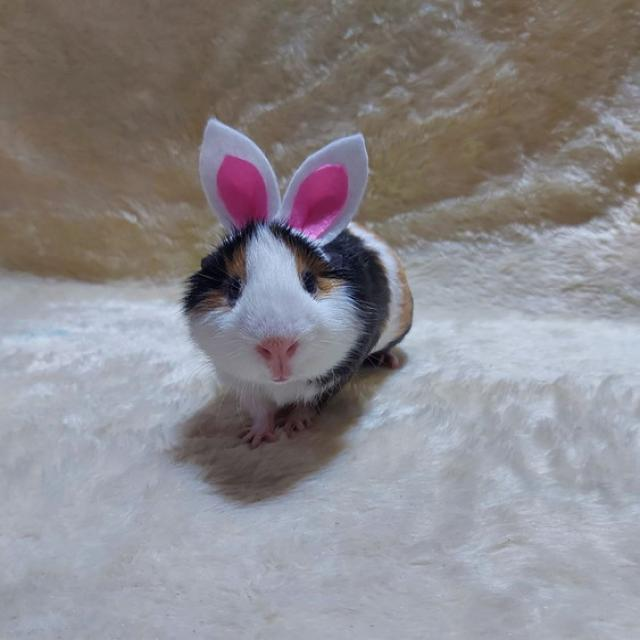guinea pig: (187, 223, 417, 448)
